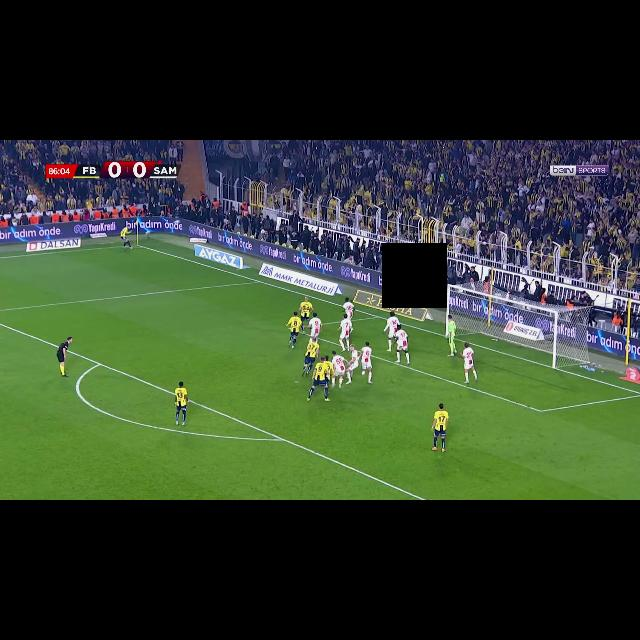billboard: (0, 217, 639, 360), (258, 263, 341, 295), (353, 290, 432, 321), (194, 244, 248, 269), (504, 321, 544, 340), (26, 238, 81, 251)
